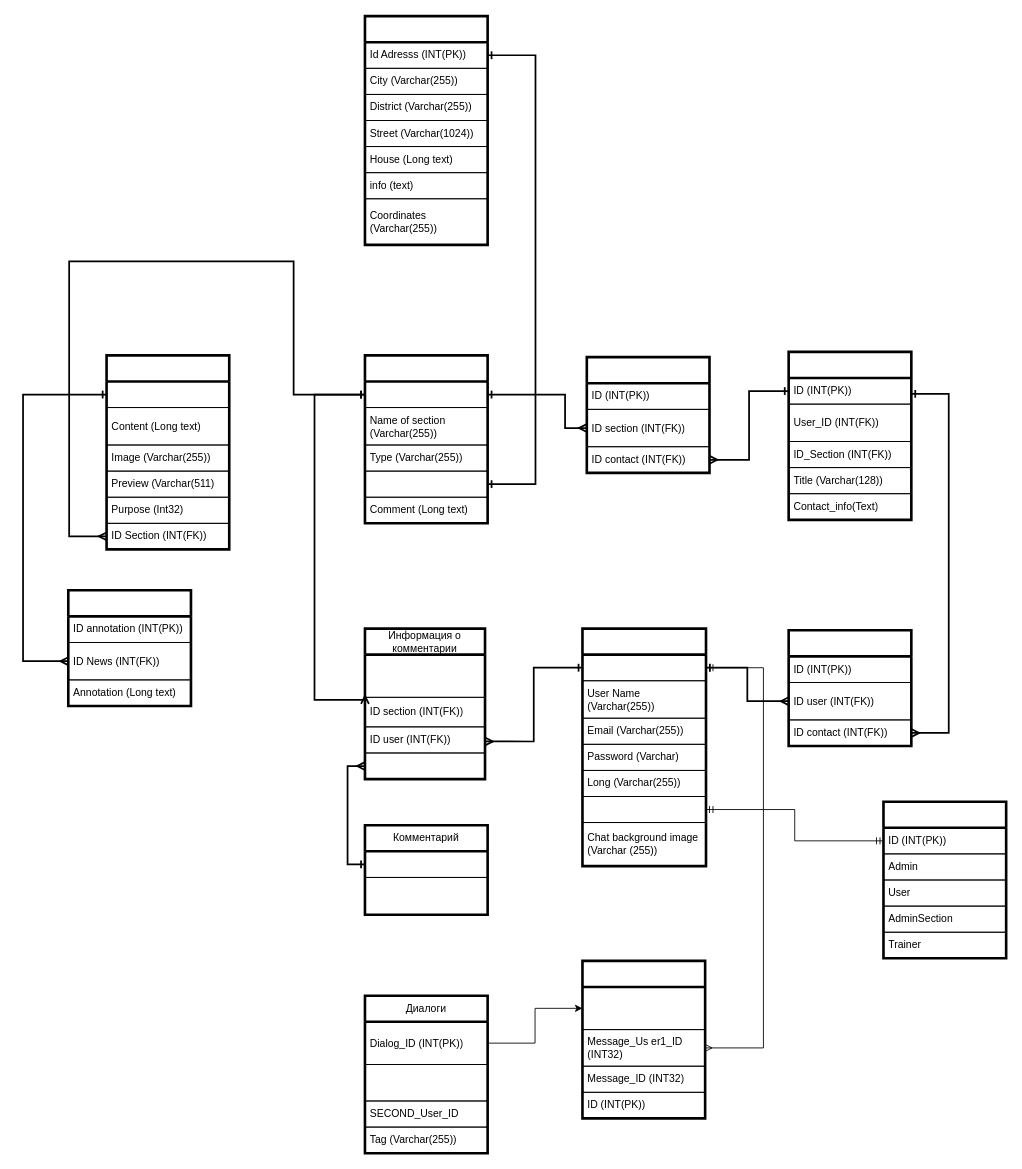
Image size: 1022x1169. Some labels were removed from this diagram. The box of each missing label's shape, as (x1, y1, x2, y2) in pixels:
Adressid (int 32): (364, 470, 488, 497)
comment (LongText): (364, 877, 488, 915)
First_USER_ID (INT(32)): (364, 1064, 488, 1101)
ID comment (INT(FK)): (364, 752, 485, 779)
ID comment (INT(PK)): (364, 850, 488, 877)
ID inf_comment (INT(PK)): (364, 654, 485, 697)
ID news (INT(PK)): (106, 381, 229, 408)
ID section (INT(PK)): (364, 381, 488, 408)
ID user (INT(PK)): (582, 654, 706, 681)
Message_Dia log_ID (INT 32): (582, 986, 705, 1030)
role (Varchar(255)): (582, 796, 706, 823)
Адрес: (363, 14, 489, 246)
Анотация: (67, 589, 192, 707)
Диалоги пользователей: (581, 959, 706, 1119)
Контакты: (787, 350, 912, 521)
Контакты пользователя: (787, 629, 912, 747)
Контакты секции: (585, 355, 710, 474)
Новости: (105, 354, 230, 550)
Пользователь: (581, 627, 707, 867)
Роли: (882, 800, 1007, 959)
Секция: (363, 354, 489, 524)
